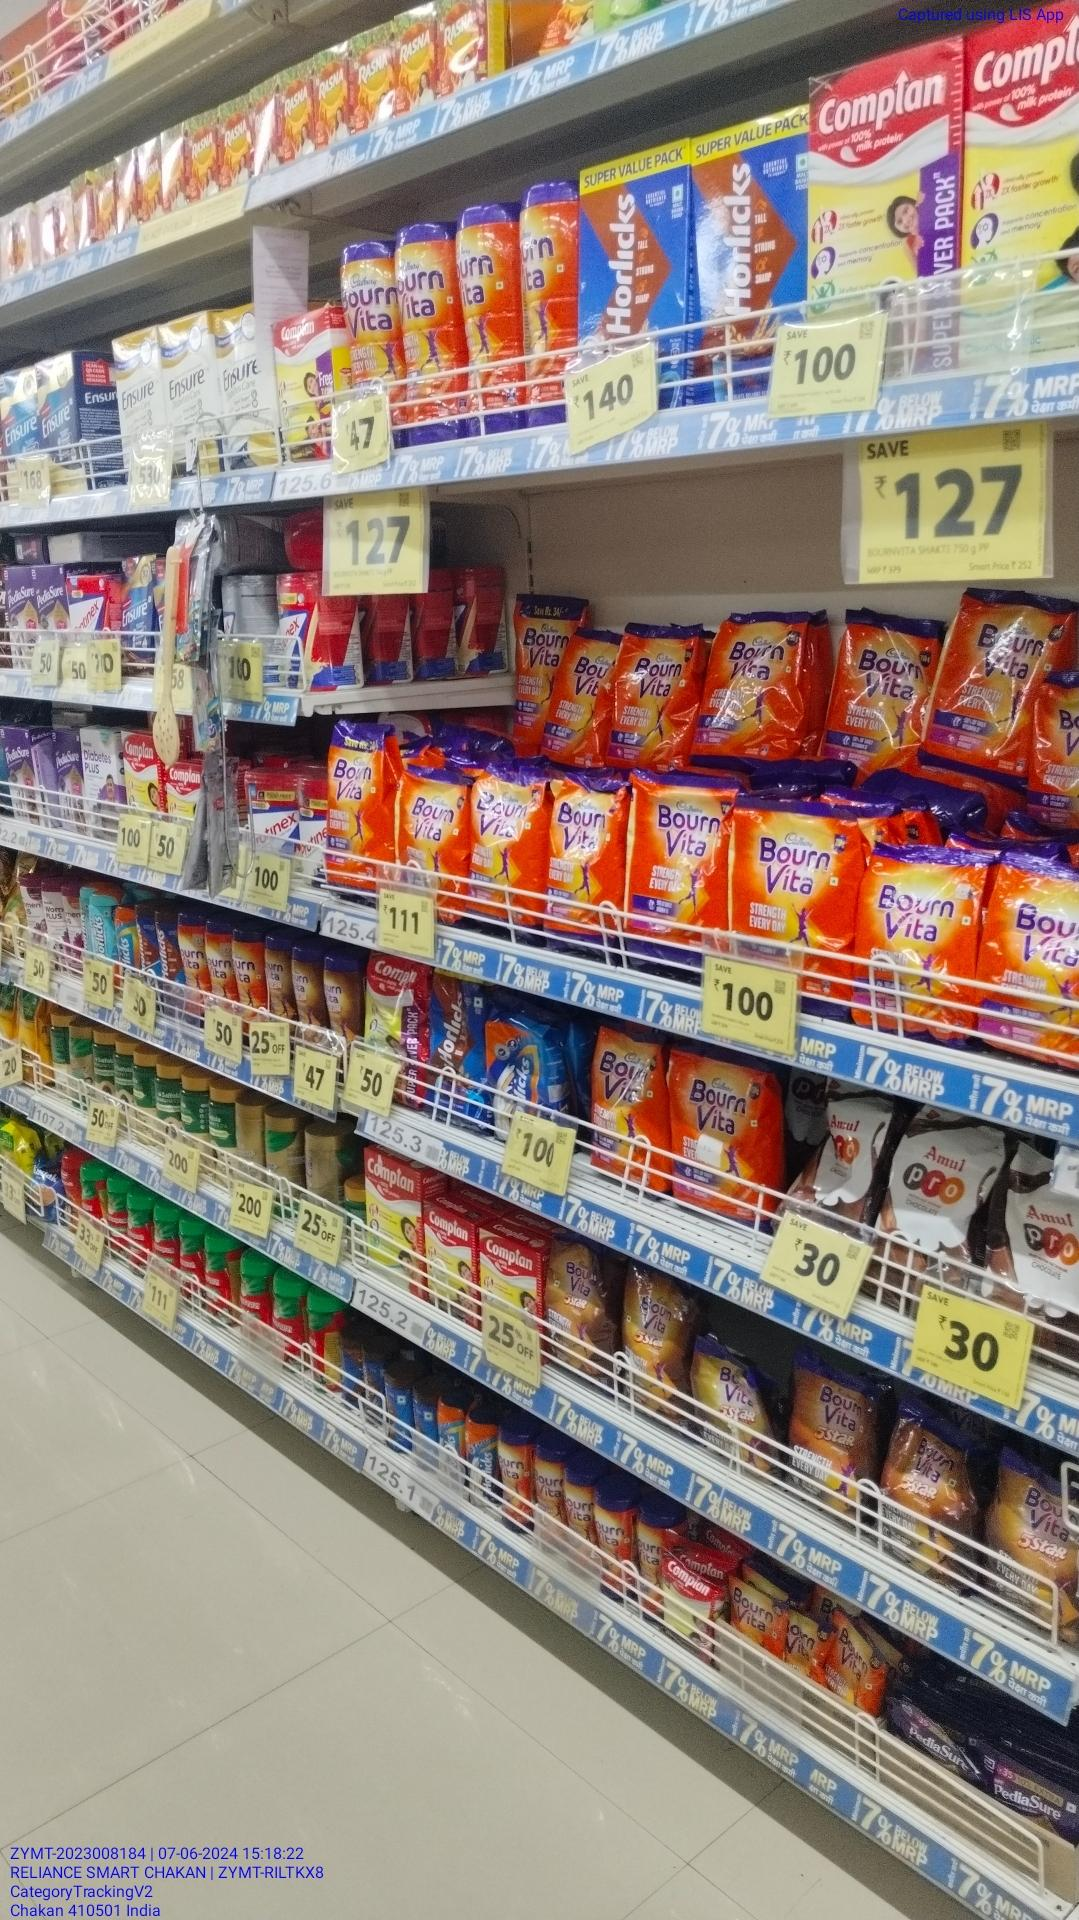BOURN_VITA_FIVE_STAR_MAGIC_500_G_POUCH: (985, 1443, 1066, 1611), (881, 1439, 975, 1552), (695, 1333, 773, 1468), (628, 1262, 686, 1425), (801, 1377, 871, 1498), (551, 1247, 609, 1365)
